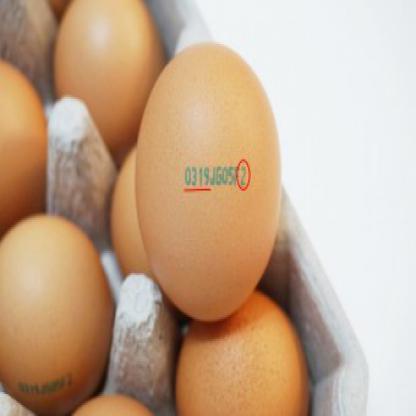egg: (133, 38, 281, 322)
